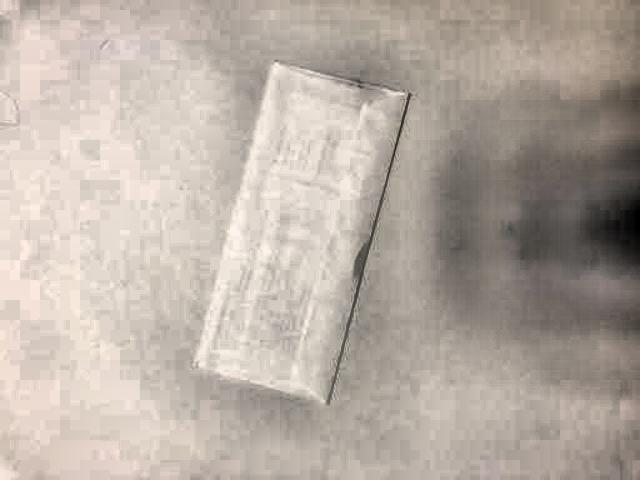Paper: (186, 61, 411, 407)
